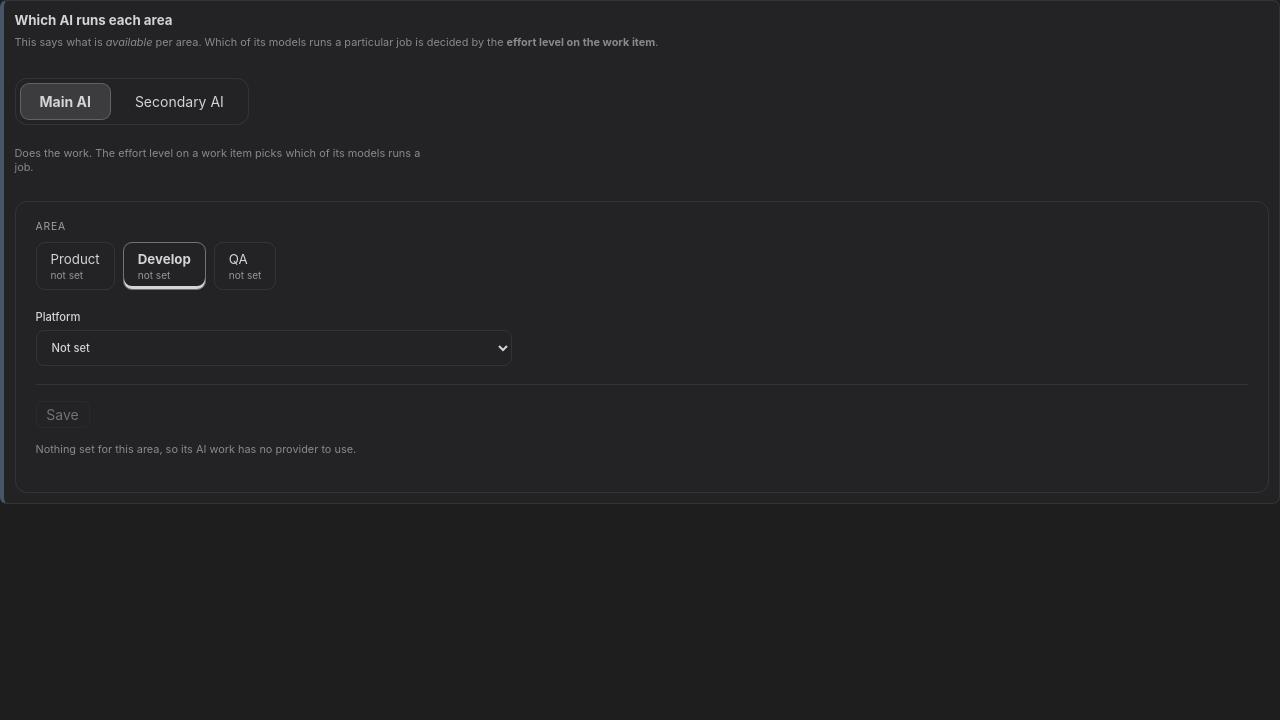
it: AiRouting › shows why a platform could not be saved
The image size is (1280, 720).
Select "Ollama — local" in the dropdown labelled "Platform" at (274, 348), box [36,330,512,366]
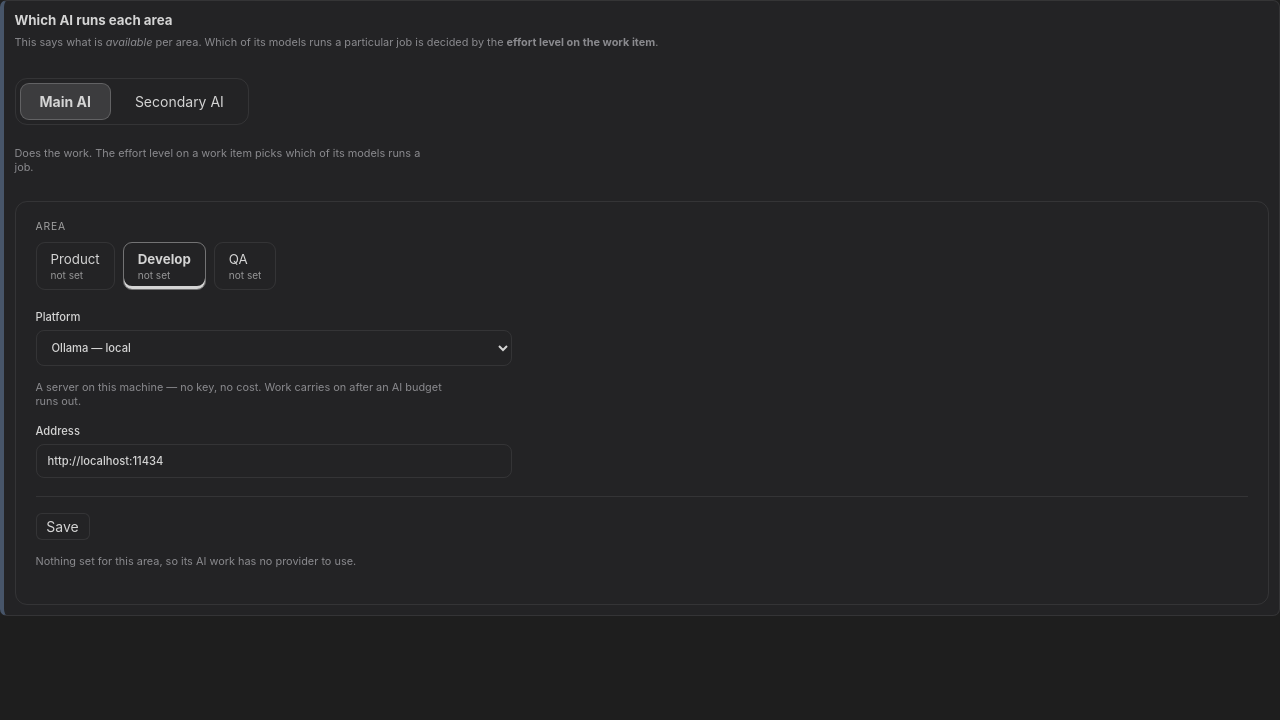
Click the button "Save" at (62, 526), box [36,512,90,540]
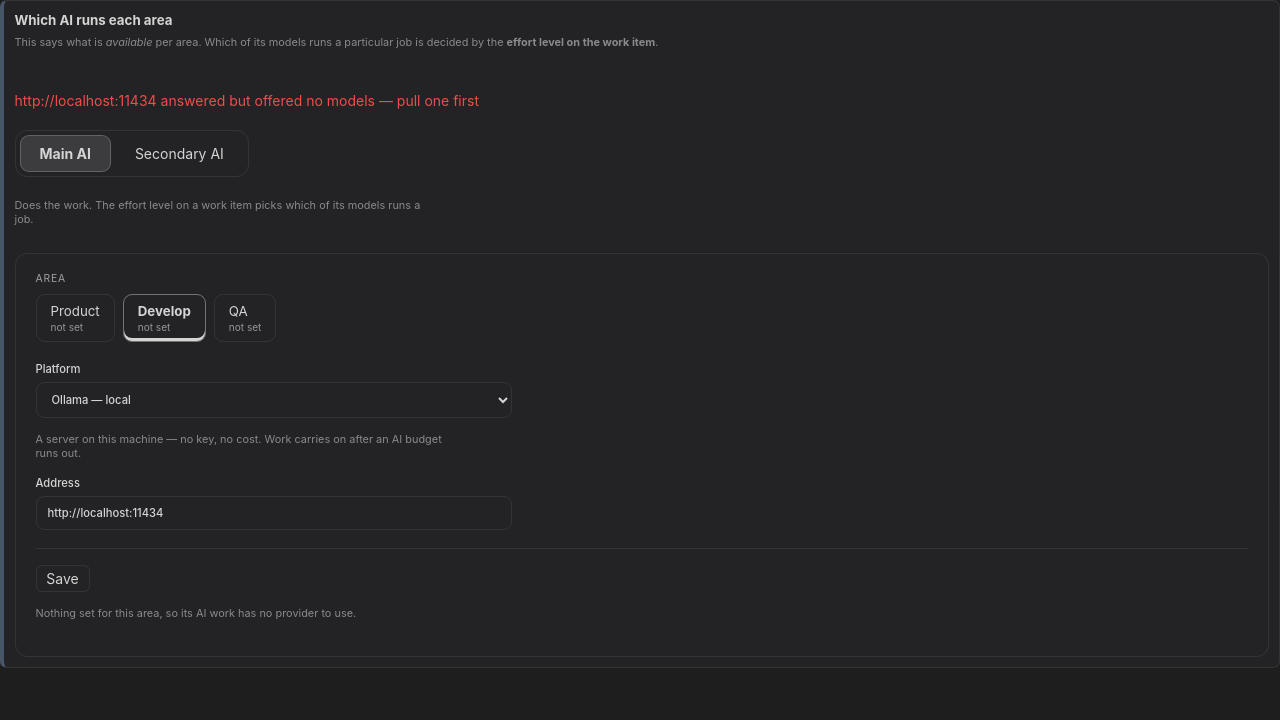
Now the message shows "offered no models", box [14,92,479,108]
